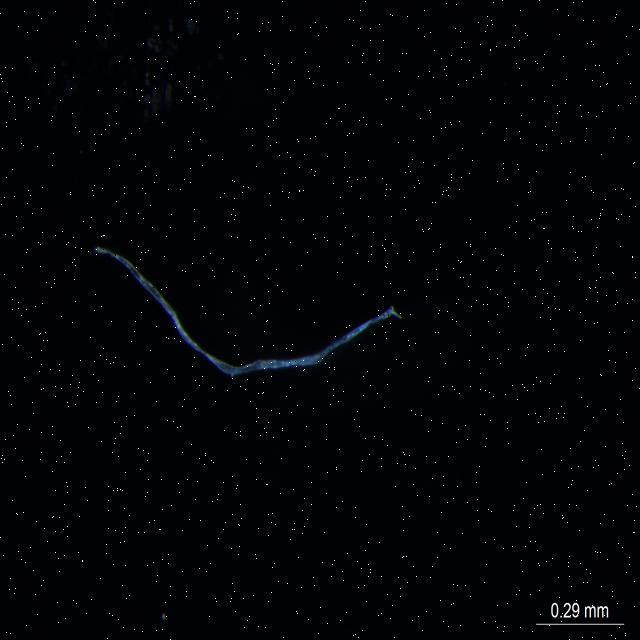Fibre: (92, 234, 408, 380)
